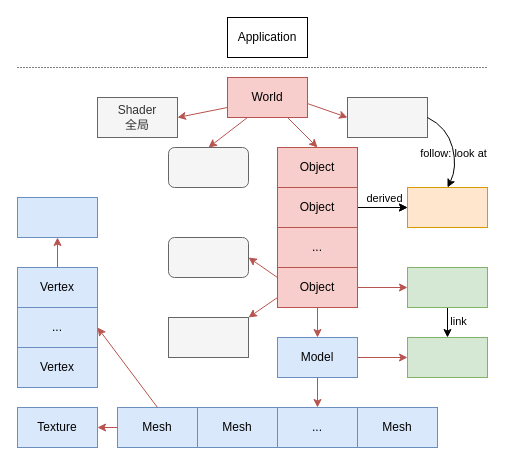
This 506x465 diagram has some shape labels left out. The shapes that lost their labels are listed below. From the top down, each one's box as (x1, y1, x2, y2) in pixels, then its label:
(346, 96, 428, 138): Camera
(168, 146, 248, 188): PhysX 总结构
(16, 196, 98, 238): BoneInfo
(406, 186, 488, 228): Player
(168, 236, 248, 278): PhysX 次级结构:刚体
(406, 266, 488, 308): Animator
(168, 316, 248, 358): Shader 独立
(406, 336, 488, 378): Animation
